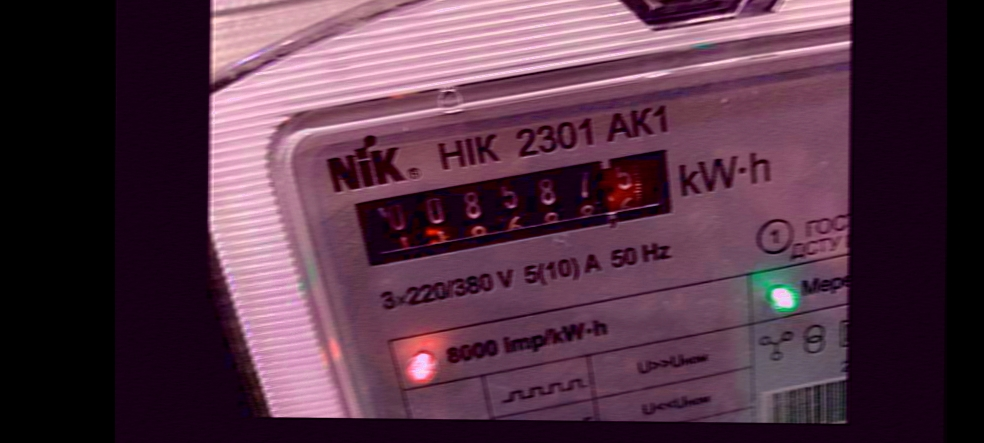0: (424, 193, 450, 227), (386, 201, 412, 233)
5: (614, 160, 637, 192), (500, 181, 523, 212)
6: (619, 195, 637, 213)
7: (575, 169, 597, 203)
8: (537, 175, 560, 209), (463, 190, 487, 222)
screen: (348, 146, 697, 272)
